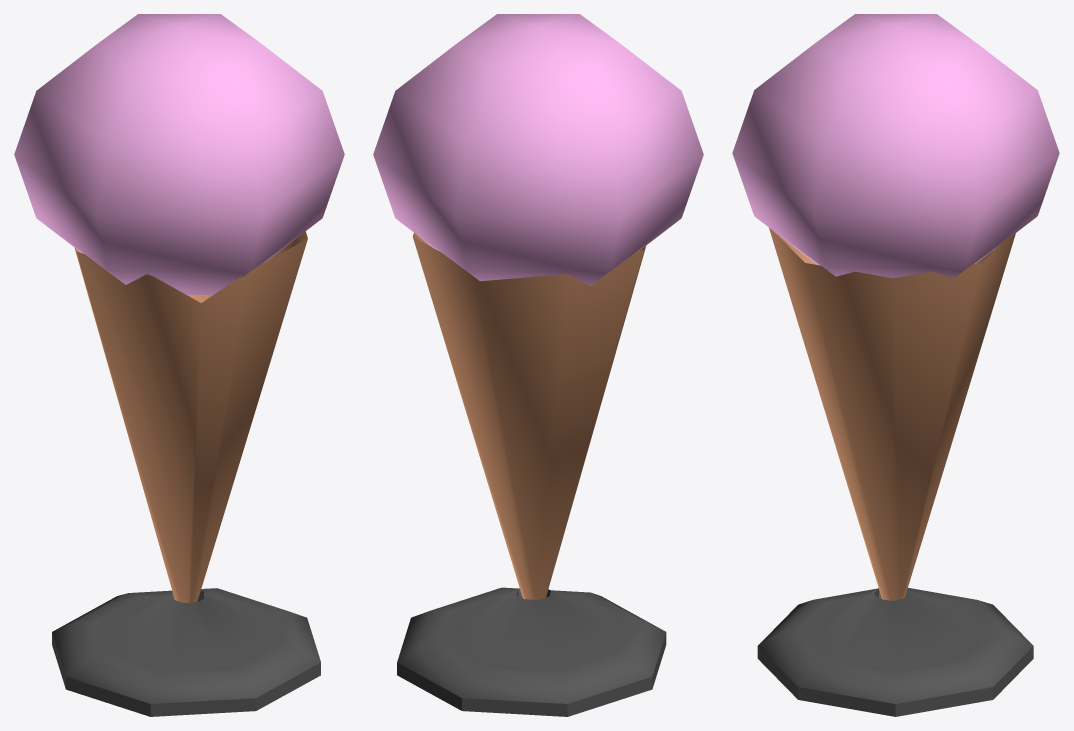
Rendered from IceCream.fbx.
3 renders of one model, left to right at view 1: azimuth 30°, elevation 25°; view 2: azimuth 150°, elevation 25°; view 3: azimuth 270°, elevation 25°, orthographic.
Parts seen in each view (by area): view 1: Cone; view 2: Cone; view 3: Cone.
Part boxes in pixels (<box>): Cone: <box>14,14,344,716</box>; Cone: <box>373,14,703,716</box>; Cone: <box>732,14,1059,716</box>.
Bounding box in the file's own units: 208 × 503 × 237.
